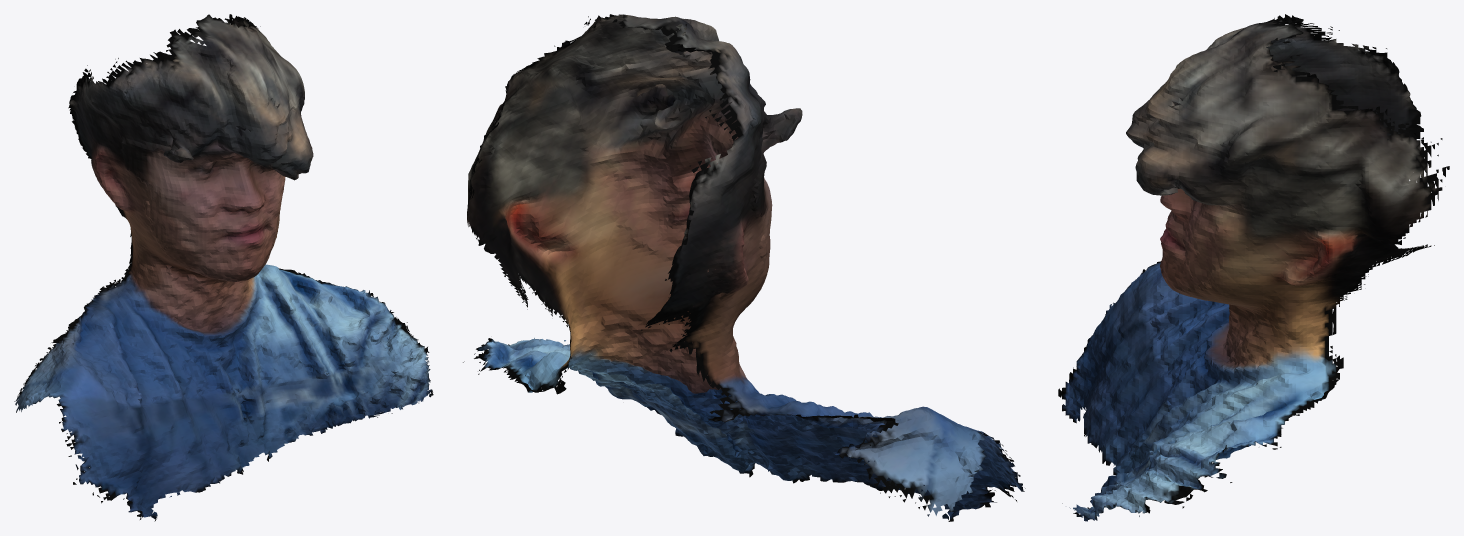
Rendered from 3d_scan_of_head.glb.
3 views of the same model, side by side, from view 1: azimuth 30°, elevation 25°; view 2: azimuth 150°, elevation 25°; view 3: azimuth 270°, elevation 25° (orthographic). The views are drawn at different scales.
Parts seen in each view (by area): view 1: 1729826519.071272; view 2: 1729826519.071272; view 3: 1729826519.071272.
Part boxes in pixels (<box>): 1729826519.071272: <box>14,14,433,521</box>; 1729826519.071272: <box>463,14,1025,521</box>; 1729826519.071272: <box>1058,14,1449,521</box>.
Bounding box in the file's own units: 6.32 × 6.37 × 4.73.
